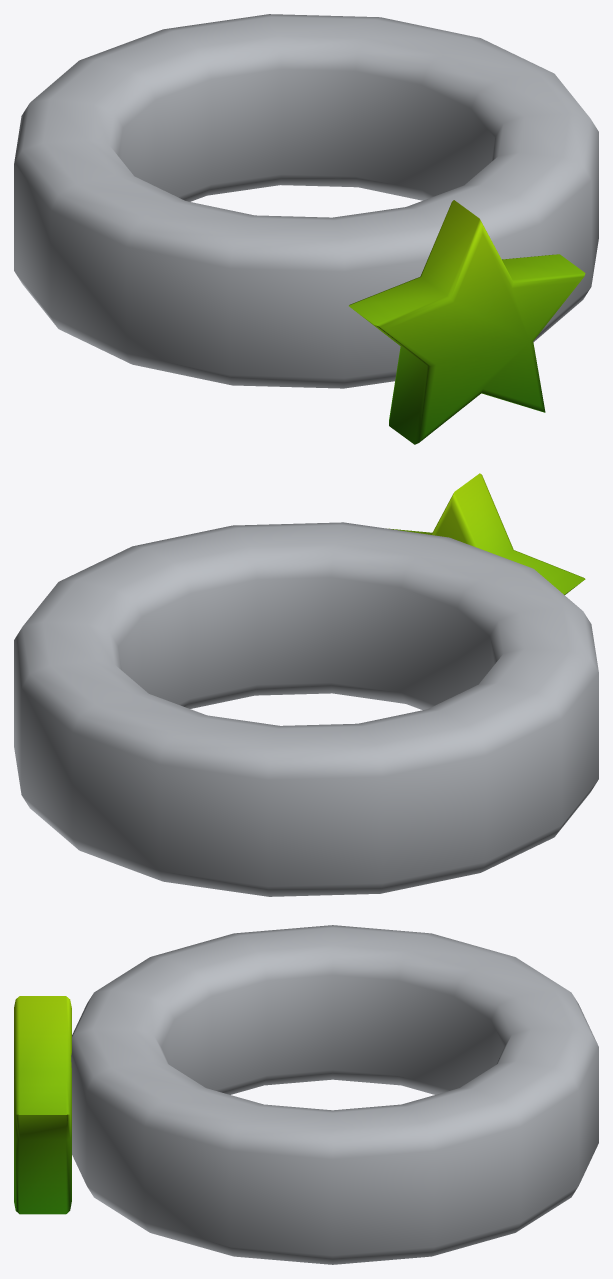
File: Ring4.fbx
The picture shows the model from 3 angles, top to bottom: view 1: azimuth 30°, elevation 25°; view 2: azimuth 150°, elevation 25°; view 3: azimuth 270°, elevation 25°; orthographic projection. The views are drawn at different scales.
Parts seen in each view (by area): view 1: Circle.005, Star.001; view 2: Circle.005, Star.001; view 3: Circle.005, Star.001.
Part boxes in pixels (x1,y1,x2,y2): Circle.005: (14,14,598,388); Star.001: (349,200,585,444); Circle.005: (14,522,598,896); Star.001: (389,473,585,594); Circle.005: (71,925,598,1264); Star.001: (14,996,71,1214).
Size of the model in its own units: 138 by 54.14 by 151.
